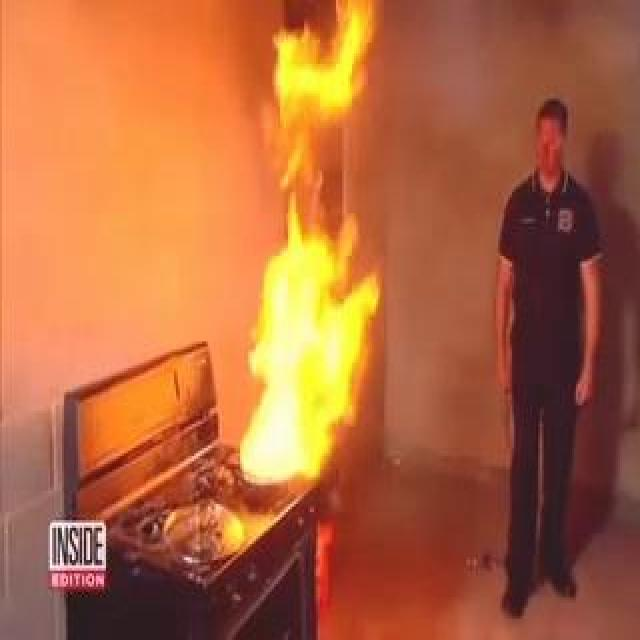Fire: (231, 87, 429, 494)
